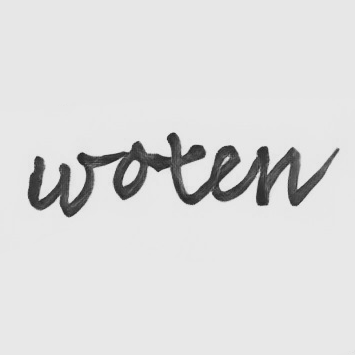e: (210, 141, 244, 205)
n: (252, 143, 305, 209)
o: (111, 138, 151, 202)
w: (23, 149, 100, 218)
x: (158, 129, 208, 207)
